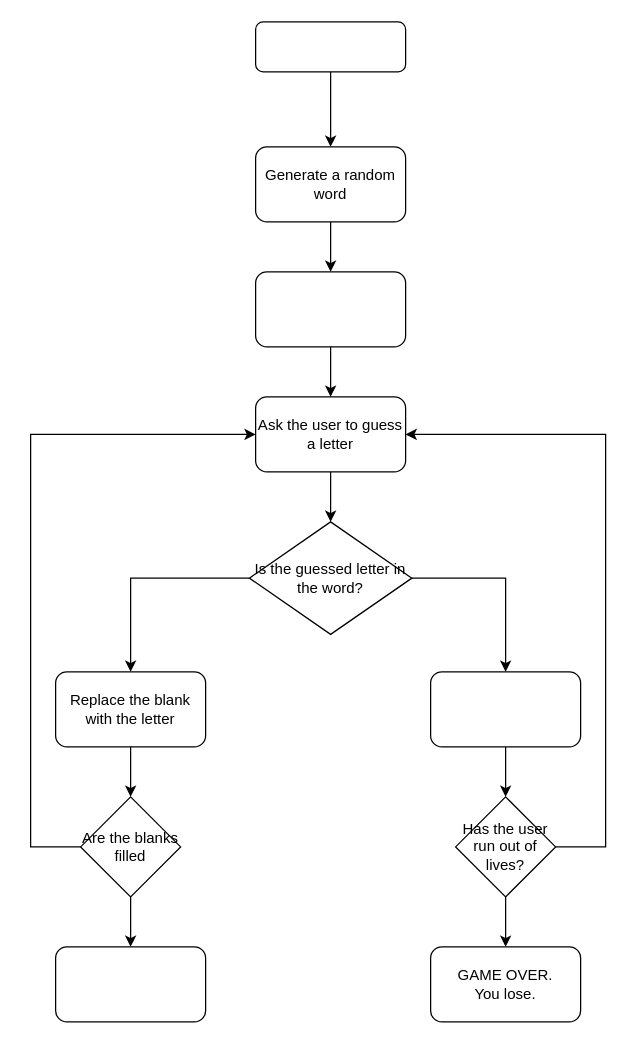
Some shapes in this 638 by 1044 pixel diagram are drawn without their labels. The box of each missing label's shape, as (x1, y1, x2, y2) in pixels:
GAME OVER. YOU WIN!: (54, 946, 206, 1022)
Generate as many blanks as letters in the word: (254, 271, 406, 347)
Loose a life: (429, 671, 581, 747)
Start: (254, 21, 406, 72)
